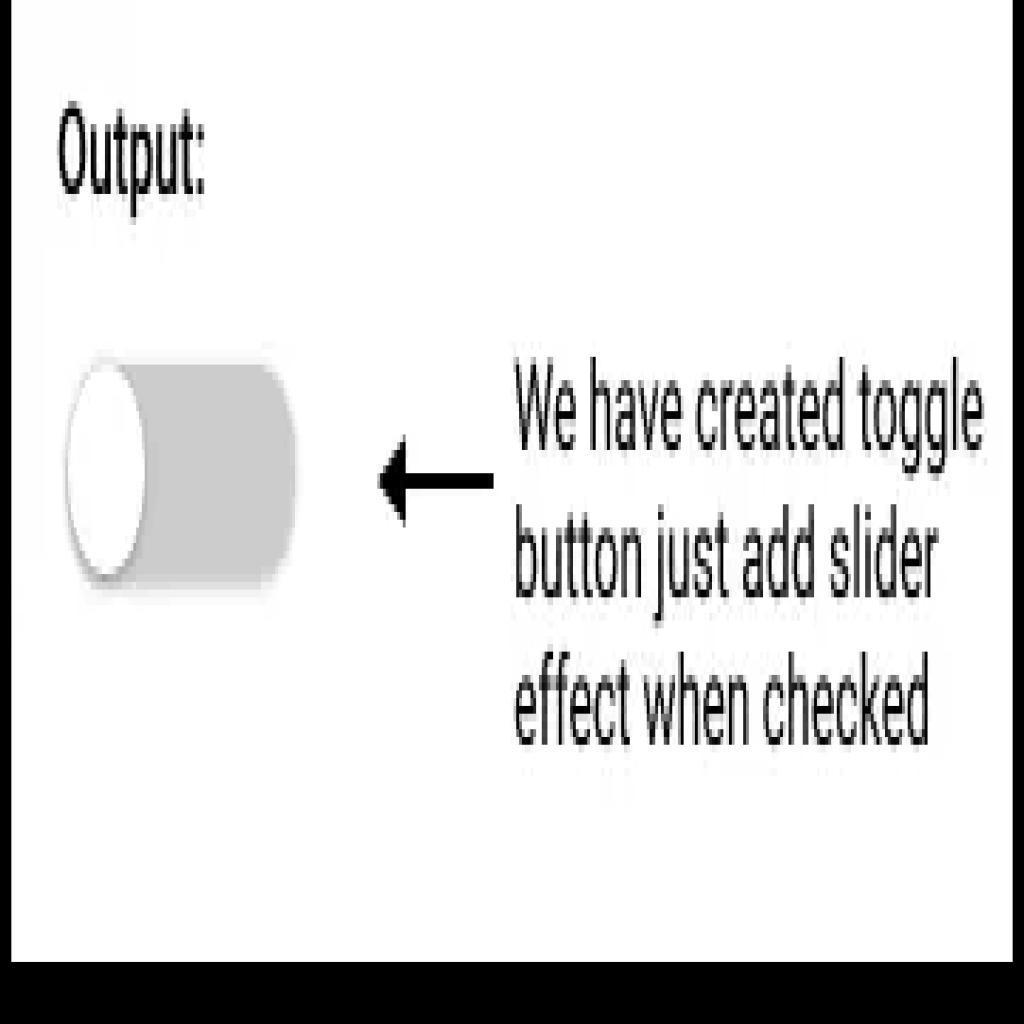switch: (61, 346, 303, 605)
